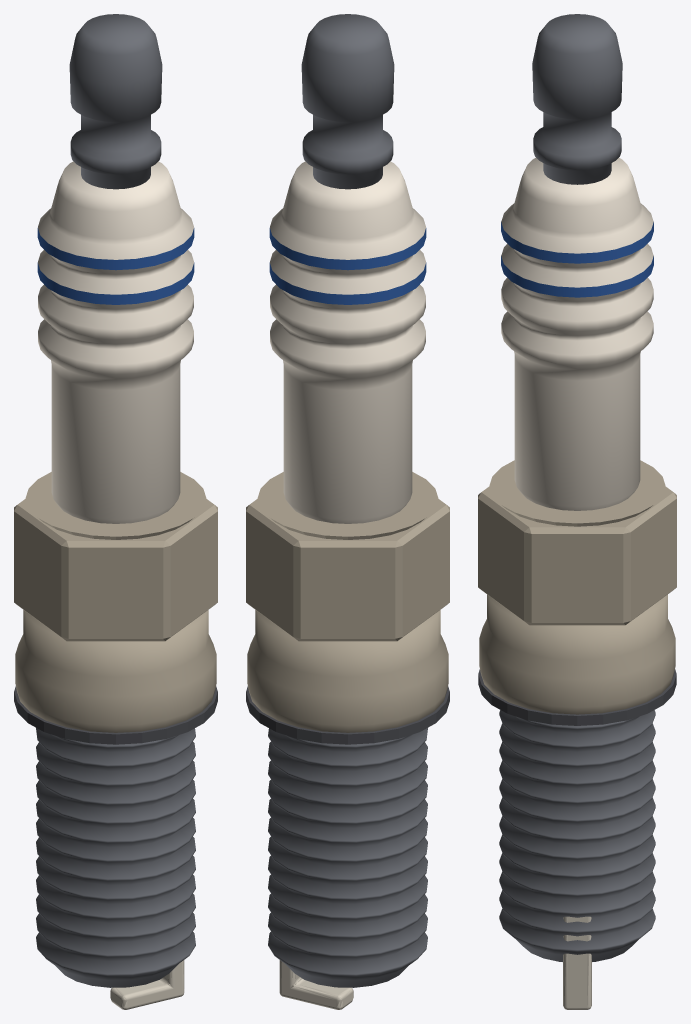
The model's file is spark_plug.glb.
3 renders of one model, left to right at view 1: azimuth 30°, elevation 25°; view 2: azimuth 150°, elevation 25°; view 3: azimuth 270°, elevation 25°, orthographic. The views are drawn at different scales.
Visible parts, largest first — view 1: Metalwork, Ceramic, InsulatorBands; view 2: Metalwork, Ceramic, InsulatorBands; view 3: Metalwork, Ceramic, InsulatorBands.
Boxes of the visible parts, bbox=[...] form: Metalwork: bbox=[14, 14, 217, 1009]; Ceramic: bbox=[38, 161, 193, 523]; InsulatorBands: bbox=[37, 228, 194, 304]; Metalwork: bbox=[246, 14, 449, 1009]; Ceramic: bbox=[270, 161, 425, 523]; InsulatorBands: bbox=[269, 228, 426, 304]; Metalwork: bbox=[478, 14, 676, 1009]; Ceramic: bbox=[501, 158, 653, 510]; InsulatorBands: bbox=[501, 222, 653, 297].
Size of the model in its own units: 0.018 by 0.0955 by 0.018.
